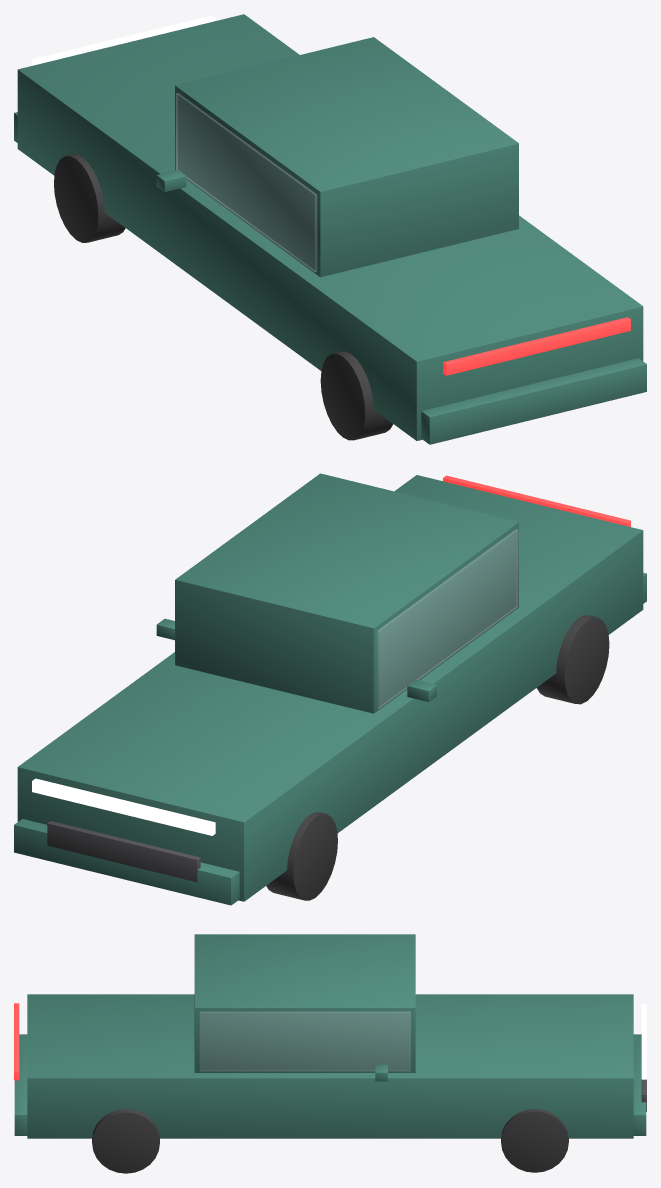
File: vehicle.glb
3 renders of one model, top to bottom at view 1: azimuth 30°, elevation 25°; view 2: azimuth 150°, elevation 25°; view 3: azimuth 270°, elevation 25°, orthographic. The views are drawn at different scales.
Visible parts, largest first — view 1: BODY_Main, BODY_Roof, GLASS_Greenhouse, BODY_Bumpers_Rear, WHEEL_RR_Tire, WHEEL_FR_Tire, LIGHT_Taillights, LIGHT_Headlights; view 2: BODY_Main, BODY_Roof, GLASS_Greenhouse, BODY_Bumpers_Front, WHEEL_RR_Tire, BODY_Grille, WHEEL_FR_Tire, LIGHT_Headlights, LIGHT_Taillights; view 3: BODY_Main, BODY_Roof, GLASS_Greenhouse, WHEEL_RL_Tire, WHEEL_FL_Tire, BODY_Bumpers_Rear, BODY_Bumpers_Front, LIGHT_Taillights, LIGHT_Headlights.
Boxes of the visible parts, <box> form: BODY_Main: <box>17,14,643,440</box>; BODY_Roof: <box>175,37,518,277</box>; GLASS_Greenhouse: <box>176,93,316,272</box>; BODY_Bumpers_Rear: <box>421,358,646,444</box>; WHEEL_RR_Tire: <box>320,351,393,440</box>; WHEEL_FR_Tire: <box>54,154,125,242</box>; LIGHT_Taillights: <box>443,317,630,375</box>; LIGHT_Headlights: <box>32,15,215,65</box>; BODY_Main: <box>17,475,643,901</box>; BODY_Roof: <box>175,473,518,713</box>; GLASS_Greenhouse: <box>377,529,518,708</box>; BODY_Bumpers_Front: <box>14,819,239,905</box>; WHEEL_RR_Tire: <box>537,615,609,704</box>; BODY_Grille: <box>47,821,200,882</box>; WHEEL_FR_Tire: <box>266,812,337,900</box>; LIGHT_Headlights: <box>32,778,215,835</box>; LIGHT_Taillights: <box>443,475,630,526</box>; BODY_Main: <box>27,994,633,1138</box>; BODY_Roof: <box>194,934,415,1072</box>; GLASS_Greenhouse: <box>200,1012,410,1071</box>; WHEEL_RL_Tire: <box>92,1109,159,1173</box>; WHEEL_FL_Tire: <box>501,1109,568,1172</box>; BODY_Bumpers_Rear: <box>14,1034,27,1135</box>; BODY_Bumpers_Front: <box>633,1034,646,1135</box>; LIGHT_Taillights: <box>14,1003,19,1080</box>; LIGHT_Headlights: <box>641,1004,646,1079</box>.
Bounding box in the file's own units: 2.25 × 1.64 × 5.96.
